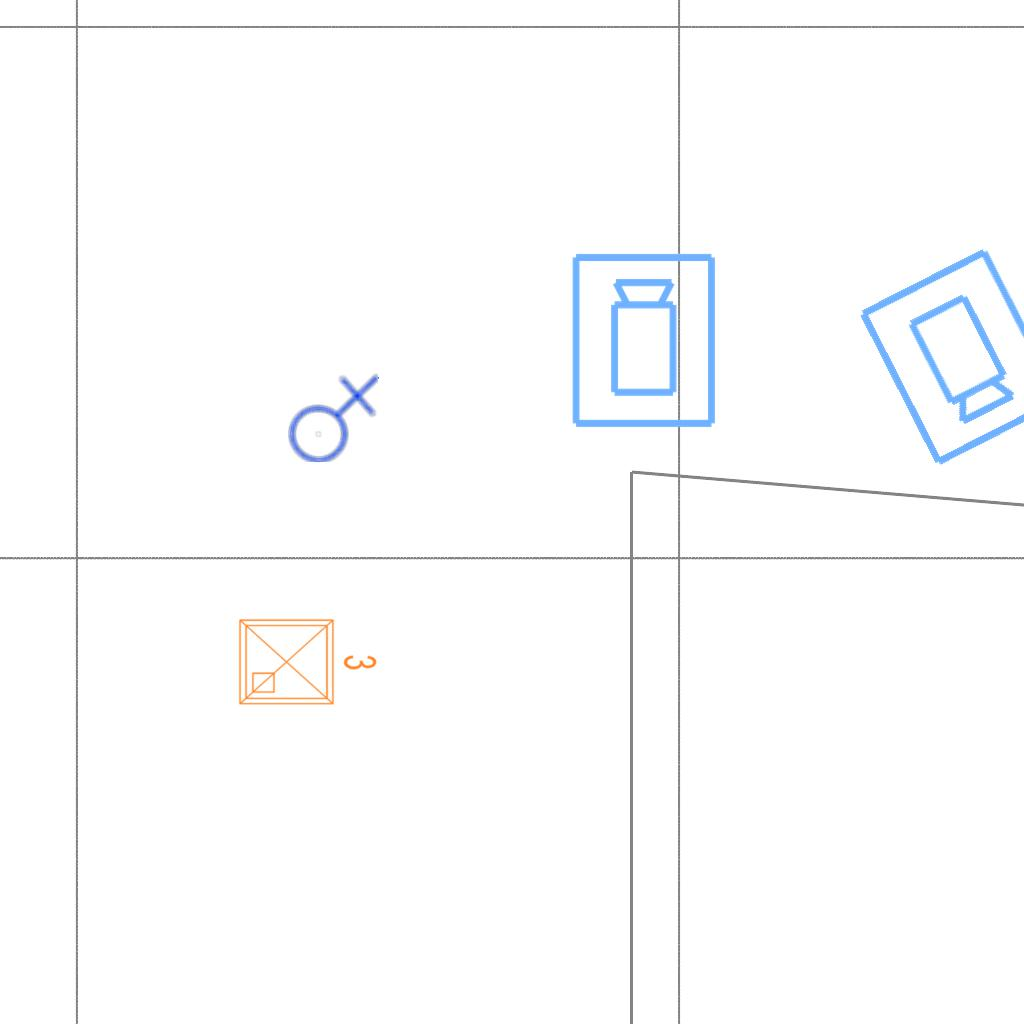Einbaudownlights_LED_Konferenzraeume: (232, 608, 382, 712)
Elektroanschluss_allgemein_230V_Geraeteanschlussdose_230V: (281, 370, 380, 464)
KFO_Kamera_mit_Festobjektiv: (850, 240, 1024, 474), (568, 250, 722, 432)
